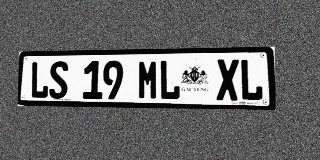1: (83, 61, 103, 99)
9: (103, 60, 123, 99)
L: (240, 59, 263, 101), (159, 60, 180, 100), (30, 61, 49, 99)
M: (138, 60, 158, 100)
S: (49, 61, 68, 99)
X: (216, 59, 239, 101)
